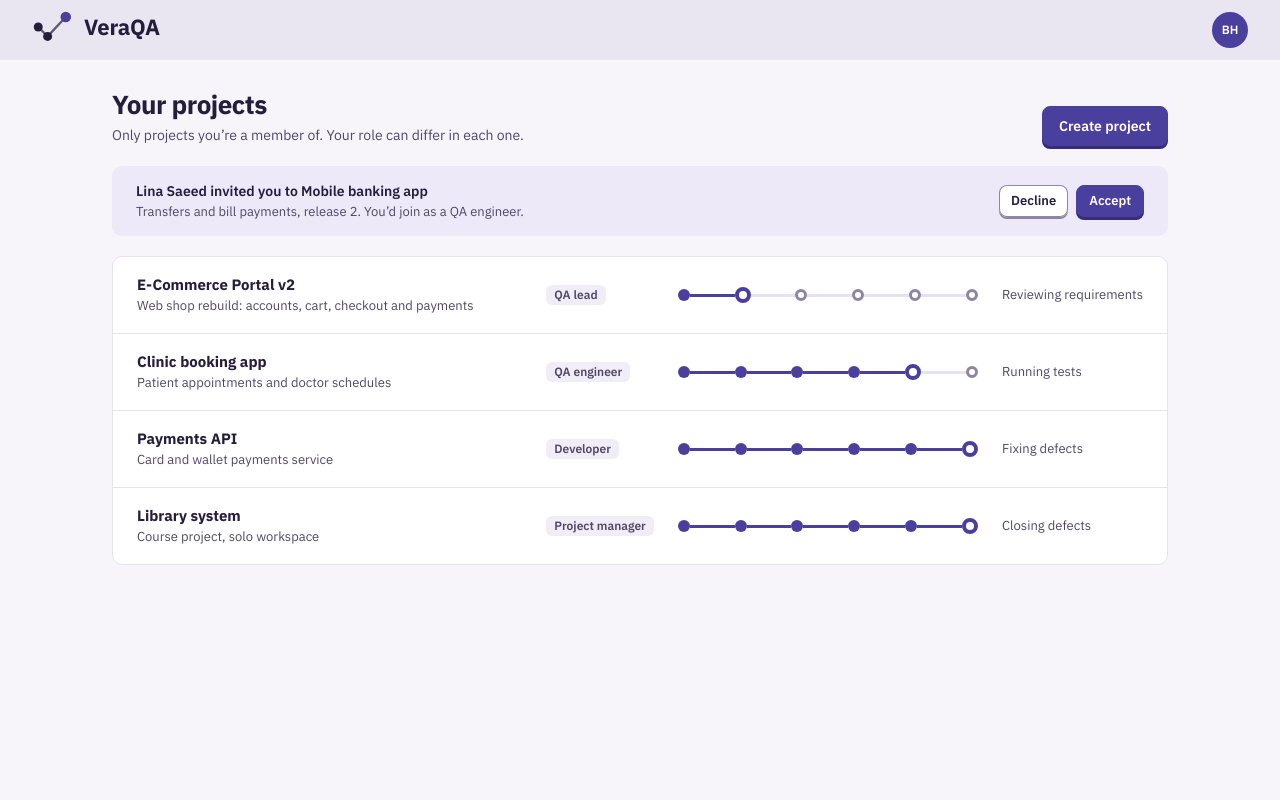
it: Your projects › drops the card and says so when you decline
The width and height of the screenshot is (1280, 800).
Click the button "Decline": [1034, 201] box x1=999 y1=185 x2=1068 y2=217
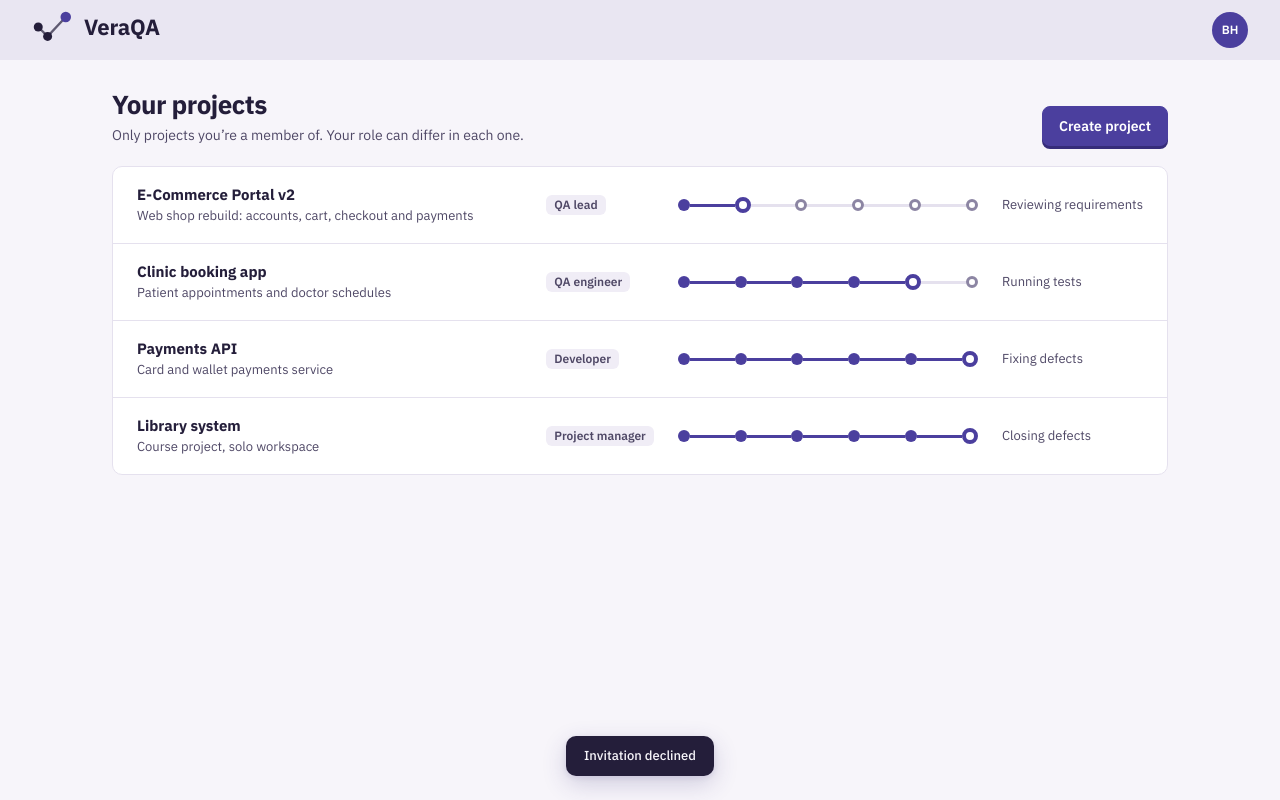
Result: the text "Invitation declined" is shown at x1=584 y1=746 x2=696 y2=766
